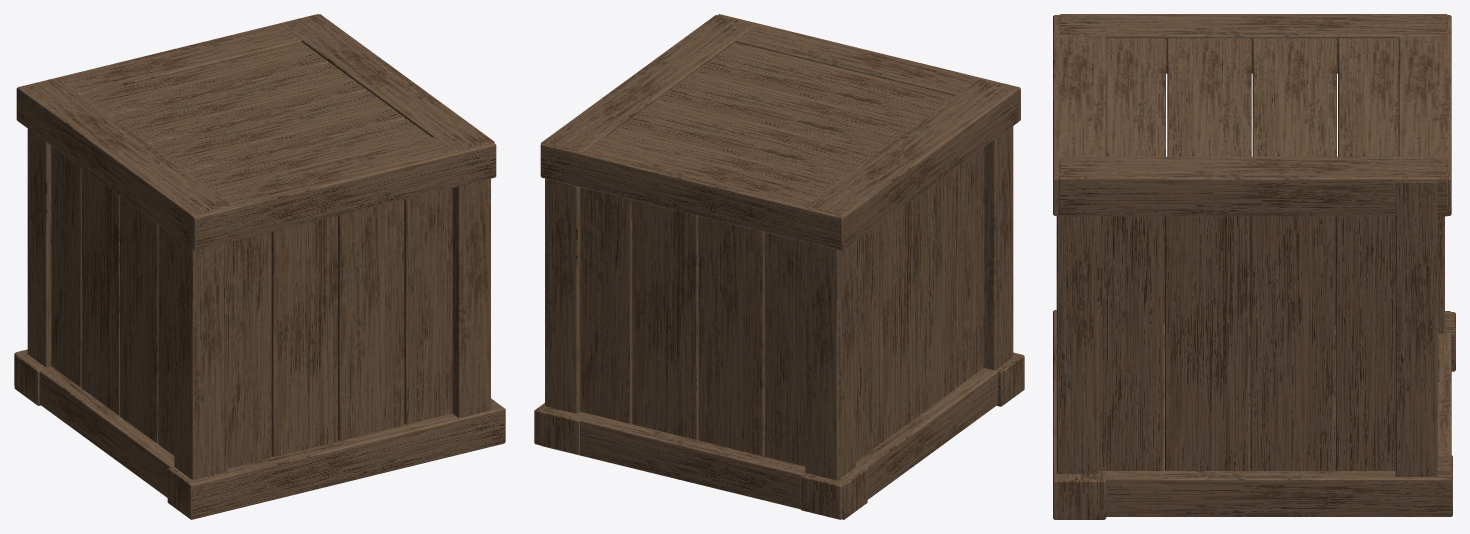
The model's file is SM_crate_alone.fbx.
3 views of the same model, side by side, from view 1: azimuth 30°, elevation 25°; view 2: azimuth 150°, elevation 25°; view 3: azimuth 270°, elevation 25° (orthographic). The views are drawn at different scales.
Parts seen in each view (by area): view 1: SM_crate_alone; view 2: SM_crate_alone; view 3: SM_crate_alone.
Boxes of the visible parts, box(x1,y1,x2,y2) form: SM_crate_alone: box(14, 14, 505, 519); SM_crate_alone: box(534, 14, 1024, 519); SM_crate_alone: box(1053, 14, 1455, 519).
Bounding box in the file's own units: 64.22 × 63.71 × 58.9.
Materials: 1 (1 with a texture image).
